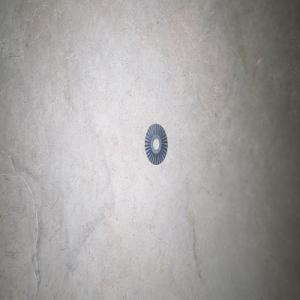Washer: (144, 123, 167, 164)
